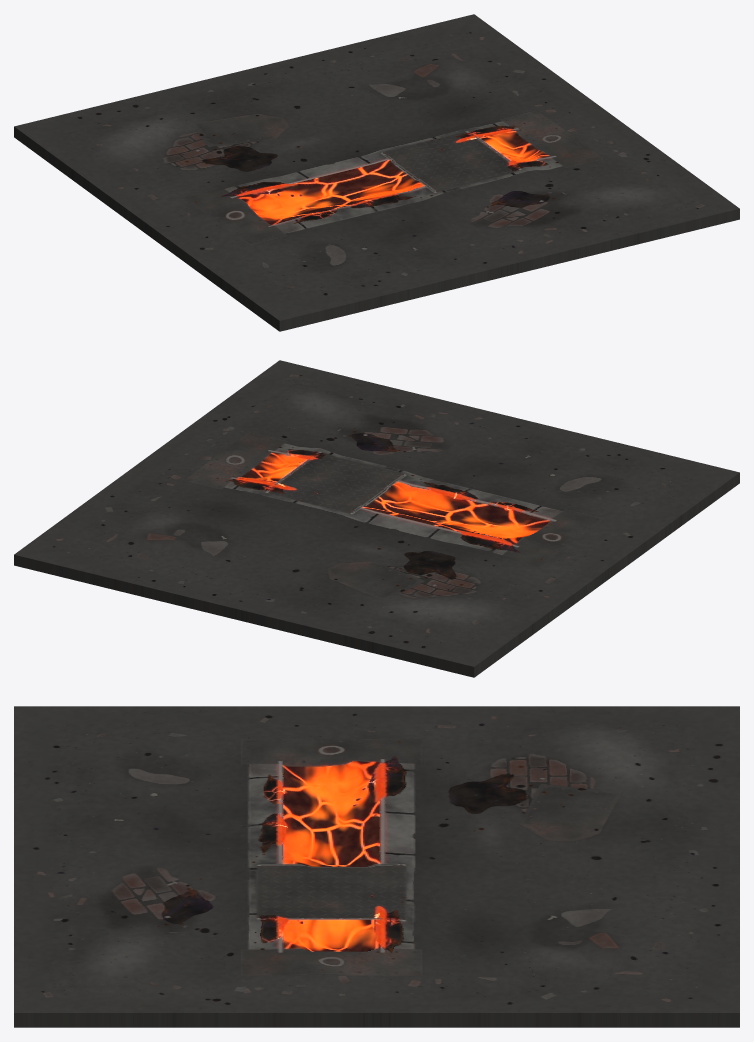
Rendered from foundry_floor_c.glb.
3 renders of one model, top to bottom at view 1: azimuth 30°, elevation 25°; view 2: azimuth 150°, elevation 25°; view 3: azimuth 270°, elevation 25°, orthographic. The views are drawn at different scales.
Visible parts, largest first — view 1: foundry_floor_c; view 2: foundry_floor_c; view 3: foundry_floor_c.
Part boxes in pixels (x1,y1,x2,y2): foundry_floor_c: (14,14,739,331); foundry_floor_c: (14,360,739,677); foundry_floor_c: (14,706,739,1027).
Size of the model in its own units: 4 by 0.14 by 4.
1 material, 1 textured.
